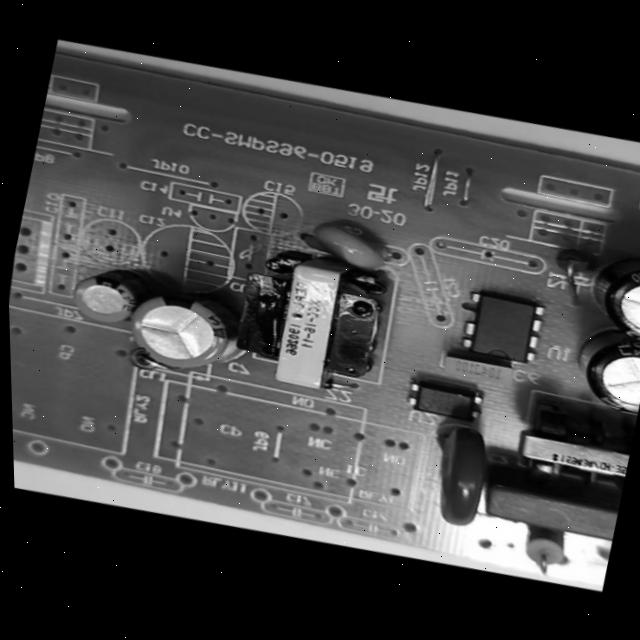Cap1: (121, 281, 244, 381)
Cap2: (64, 260, 144, 330)
Cap3: (564, 323, 640, 420)
Cap4: (579, 253, 640, 346)
MOSFET: (452, 282, 551, 373)
Mov: (414, 422, 496, 532)
Resistor: (510, 521, 574, 581)
Transformer: (232, 241, 399, 408), (505, 394, 638, 504)
